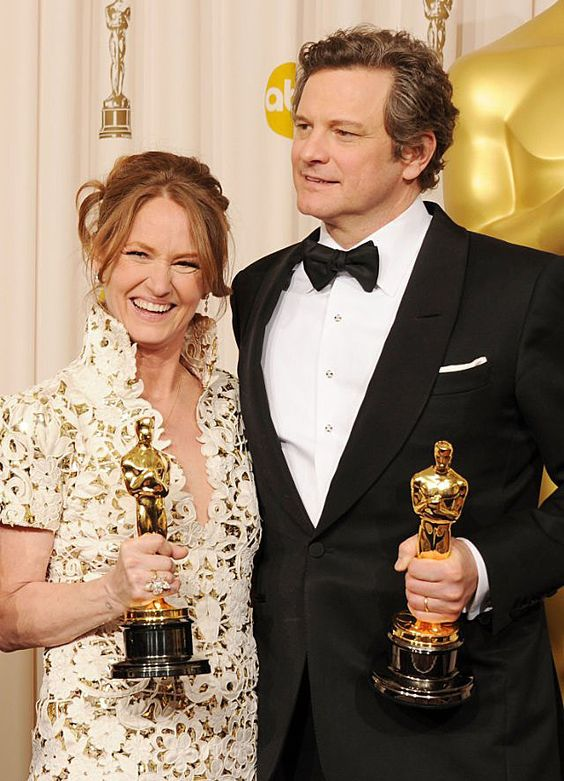hand: (97, 547, 177, 602)
